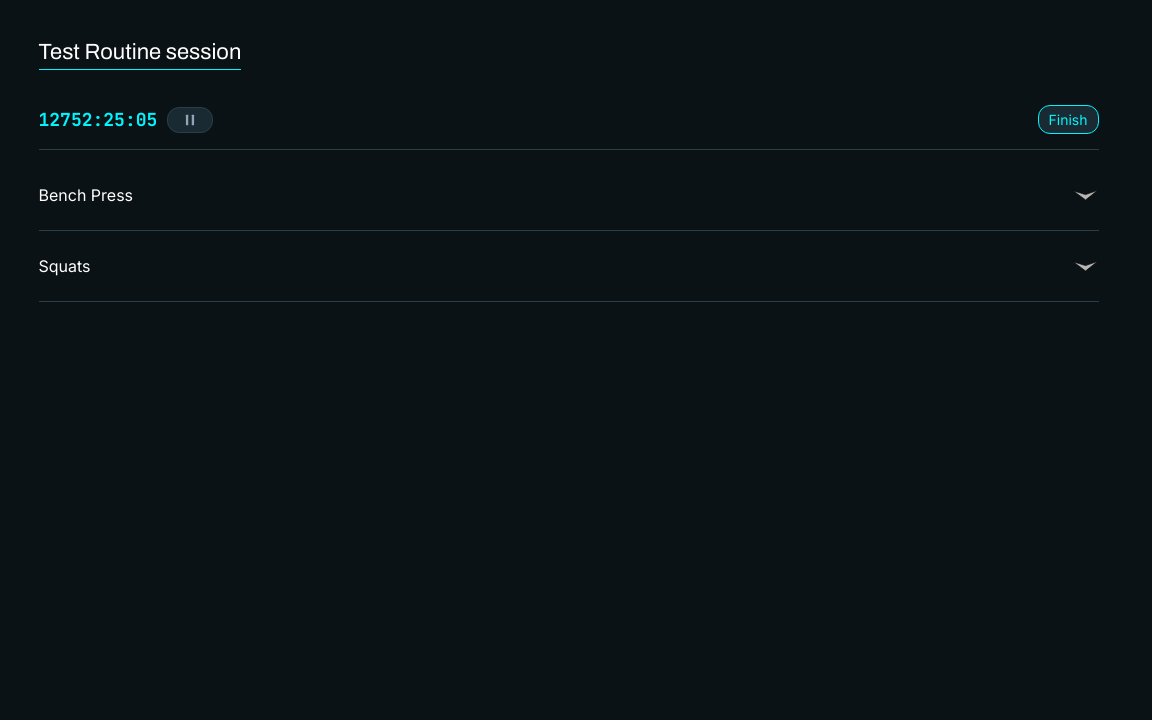
Test: should show body area breakdown after a set is completed
The width and height of the screenshot is (1152, 720).
Expected: the text "Bench Press" is shown, top-left (38, 185), bottom-right (133, 205)
Click the button "Bench Press" at point(86, 195), box top-left (38, 160), bottom-right (1098, 230)
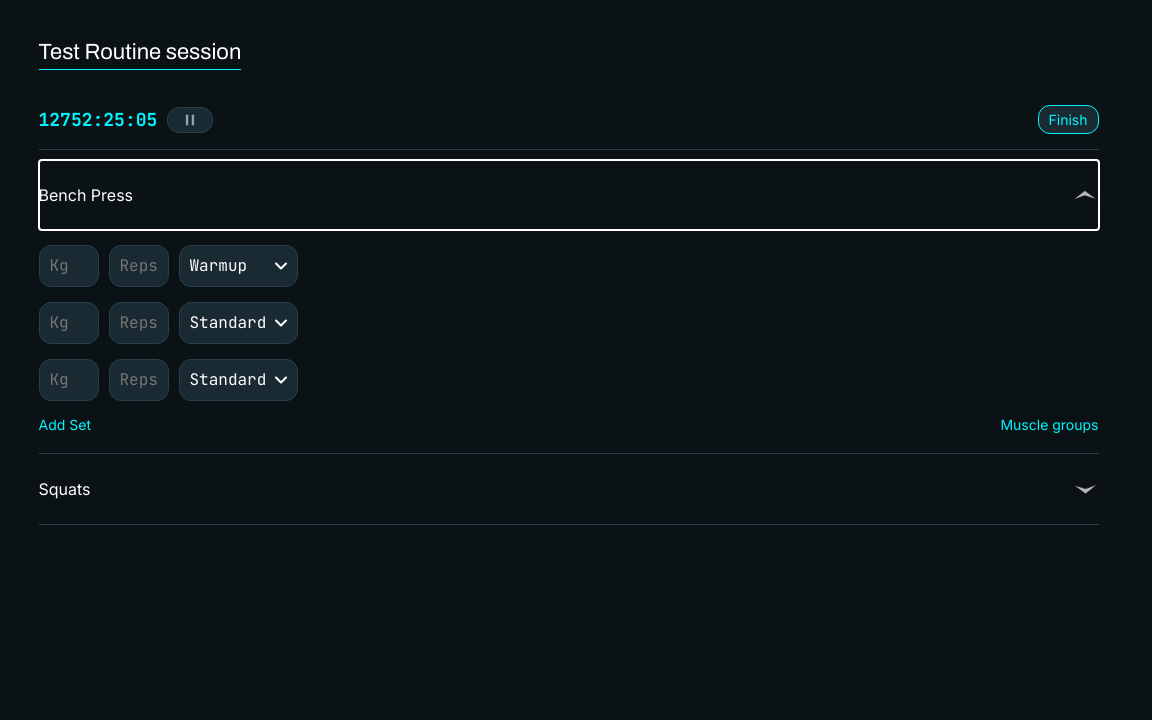
Type "60" into the 2nd number field labelled "Kg" at point(68, 323), box top-left (38, 302), bottom-right (98, 344)
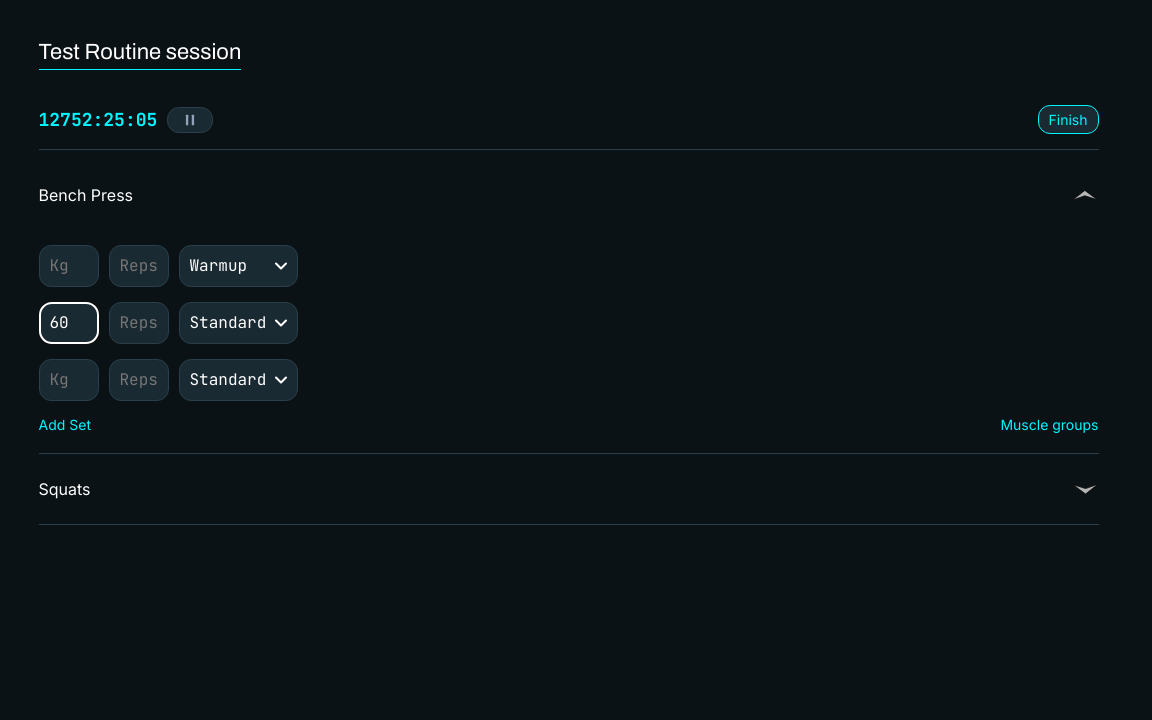
Type "10" into the 2nd number field labelled "Reps" at point(138, 323), box top-left (108, 302), bottom-right (168, 344)
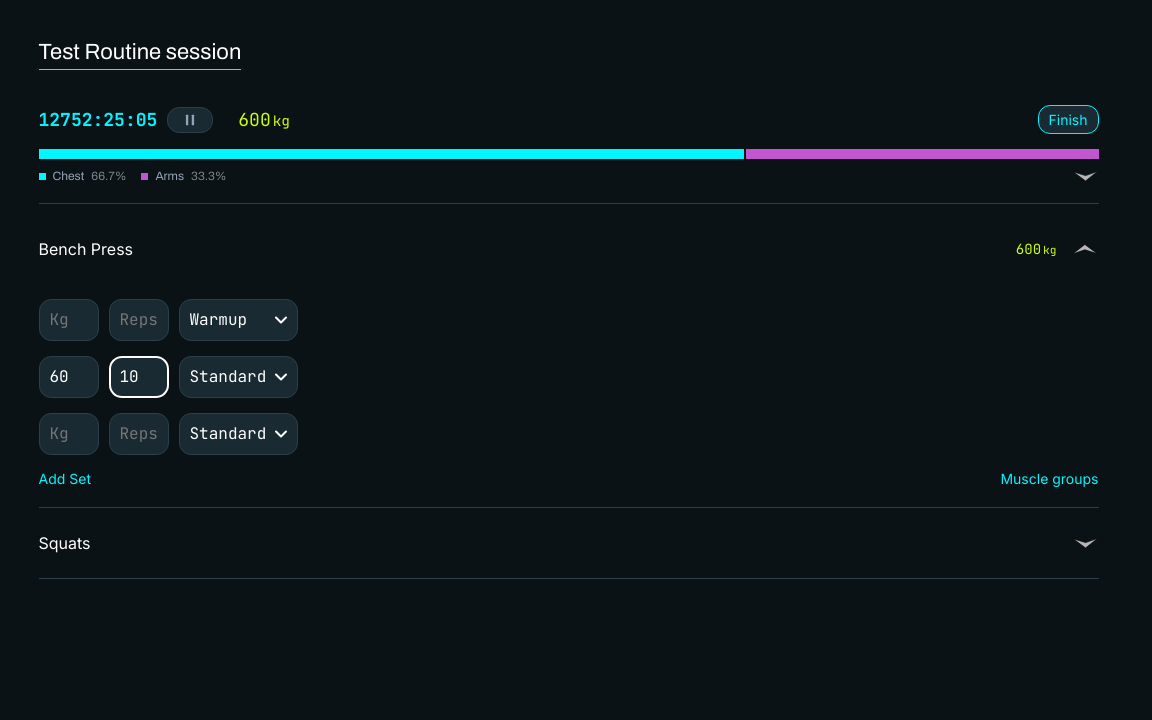
Expected: the picture named "Body area breakdown bar" is shown, top-left (38, 149), bottom-right (1098, 159)
Expected: the list named "Body areas" is shown, top-left (38, 169), bottom-right (226, 183)
Click the button named "expand muscle detail" at point(68, 176), box top-left (38, 164), bottom-right (1098, 188)
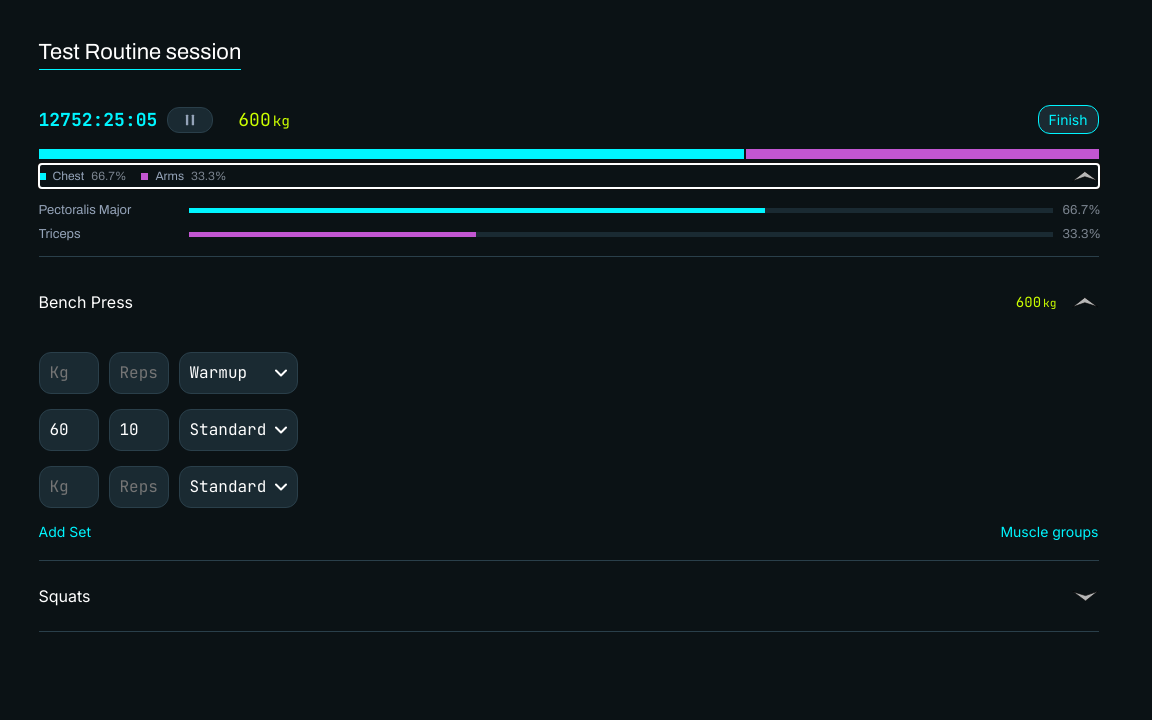
Expected: the list named "Muscle groups" is shown, top-left (38, 203), bottom-right (1098, 241)
